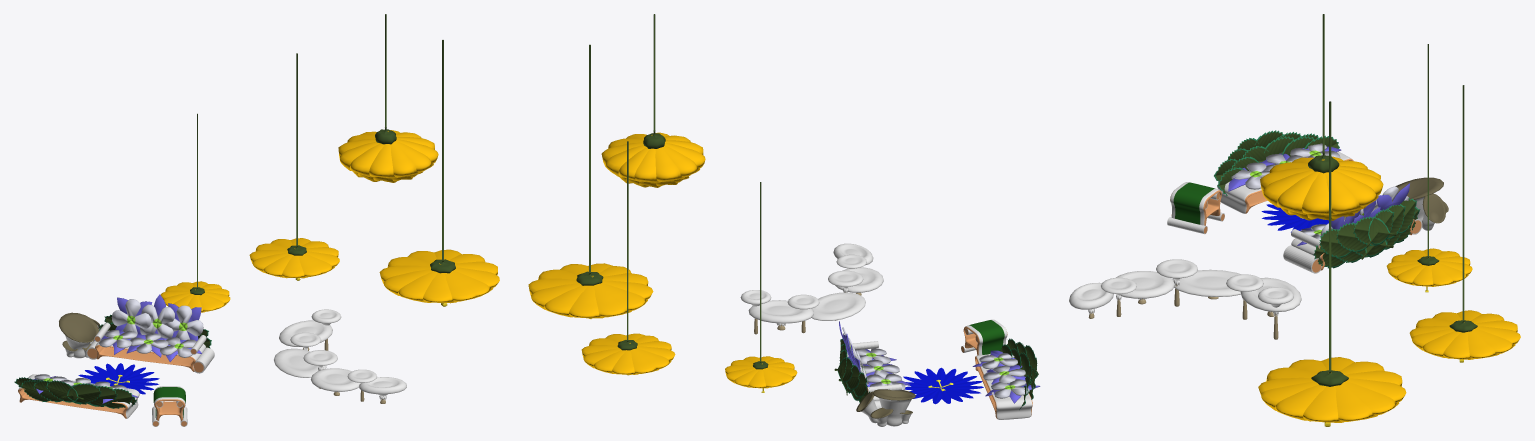
Rendered from FurnitureLvl3.fbx.
3 views of the same model, side by side, from view 1: azimuth 30°, elevation 25°; view 2: azimuth 150°, elevation 25°; view 3: azimuth 270°, elevation 25° (orthographic). The views are drawn at different scales.
Parts seen in each view (by area): view 1: Circle.008, Circle.066, Circle.003, Circle.027, SpikyLeaf.003, Circle.021, Circle.025, StoolMushroom, Circle.050, Cylinder.042, SkirtMushroomFlat.005, SkirtMushroomFlat.004 (+11 smaller); view 2: Circle.008, Circle.066, Circle.003, Circle.050, Circle.021, StoolMushroom, Circle.024, SkirtMushroomFlat.005, Cylinder.031, Circle.025, SkirtMushroomFlat.006, Cylinder.026 (+8 smaller); view 3: Circle.008, Circle.066, Circle.003, SpikyLeaf.001, SpikyLeaf.003, Circle.021, Cylinder.031, StoolMushroom, SkirtMushroomFlat.005, Circle.024, Circle.009, SkirtMushroomFlat.004 (+13 smaller).
Boxes of the visible parts, x1=… form: Circle.008: x1=379, y1=249, x2=499, y2=302; Circle.066: x1=338, y1=130, x2=438, y2=178; Circle.003: x1=249, y1=238, x2=339, y2=277; Circle.027: x1=111, y1=299, x2=203, y2=339; SpikyLeaf.003: x1=14, y1=377, x2=136, y2=408; Circle.021: x1=160, y1=281, x2=230, y2=312; Circle.025: x1=99, y1=330, x2=196, y2=357; StoolMushroom: x1=59, y1=312, x2=100, y2=358; Circle.050: x1=78, y1=363, x2=159, y2=394; Cylinder.042: x1=95, y1=330, x2=205, y2=371; SkirtMushroomFlat.005: x1=274, y1=348, x2=326, y2=377; SkirtMushroomFlat.004: x1=310, y1=368, x2=360, y2=395; Circle.008: x1=528, y1=263, x2=653, y2=318; Circle.066: x1=601, y1=132, x2=705, y2=182; Circle.003: x1=581, y1=333, x2=675, y2=374; Circle.050: x1=903, y1=367, x2=983, y2=404; Circle.021: x1=725, y1=356, x2=797, y2=388; StoolMushroom: x1=856, y1=389, x2=915, y2=426; Circle.024: x1=979, y1=353, x2=1029, y2=398; SkirtMushroomFlat.005: x1=811, y1=292, x2=865, y2=320; Cylinder.031: x1=963, y1=319, x2=1007, y2=355; Circle.025: x1=855, y1=348, x2=905, y2=390; SkirtMushroomFlat.006: x1=748, y1=300, x2=813, y2=330; Cylinder.026: x1=975, y1=354, x2=1032, y2=419; Circle.008: x1=1258, y1=357, x2=1406, y2=422; Circle.066: x1=1260, y1=156, x2=1383, y2=214; Circle.003: x1=1409, y1=310, x2=1520, y2=359; SpikyLeaf.001: x1=1313, y1=198, x2=1420, y2=268; SpikyLeaf.003: x1=1214, y1=130, x2=1339, y2=195; Circle.021: x1=1386, y1=248, x2=1472, y2=286; Cylinder.031: x1=1170, y1=182, x2=1221, y2=225; StoolMushroom: x1=1395, y1=177, x2=1448, y2=230; SkirtMushroomFlat.005: x1=1173, y1=269, x2=1240, y2=299; Circle.024: x1=1231, y1=143, x2=1340, y2=189; Circle.009: x1=1311, y1=101, x2=1348, y2=386; SkirtMushroomFlat.004: x1=1116, y1=271, x2=1174, y2=304.
Bounding box in the file's own units: 1672 × 1033 × 1123.
